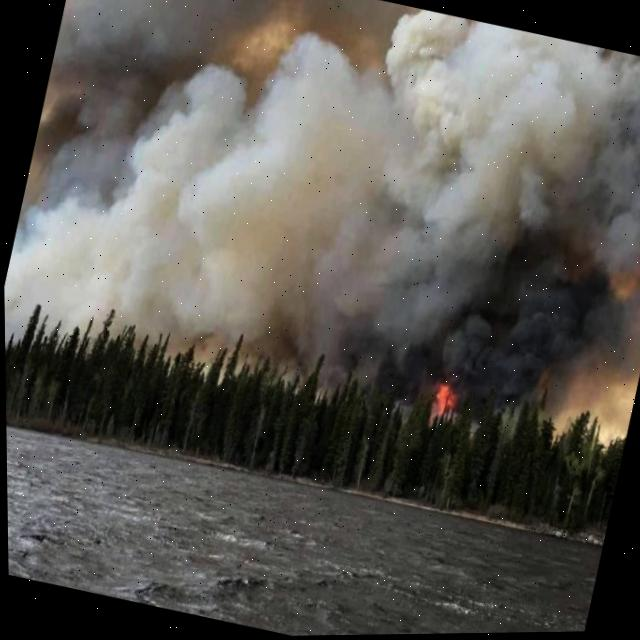smoke: (3, 0, 640, 448)
